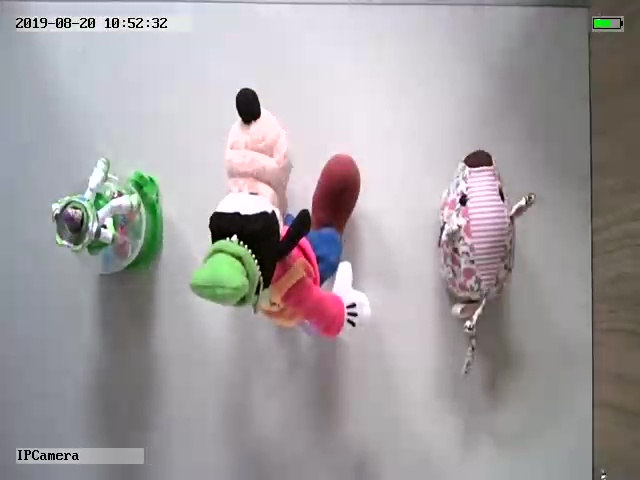buzz: (49, 156, 164, 278)
goofy: (189, 87, 371, 338)
pig: (436, 149, 535, 379)
